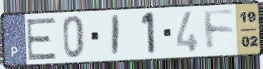0: (61, 14, 88, 60)
1: (140, 11, 157, 57)
4: (175, 9, 201, 55)
E: (24, 15, 58, 61)
F: (202, 8, 238, 54)
I: (110, 13, 122, 58)
